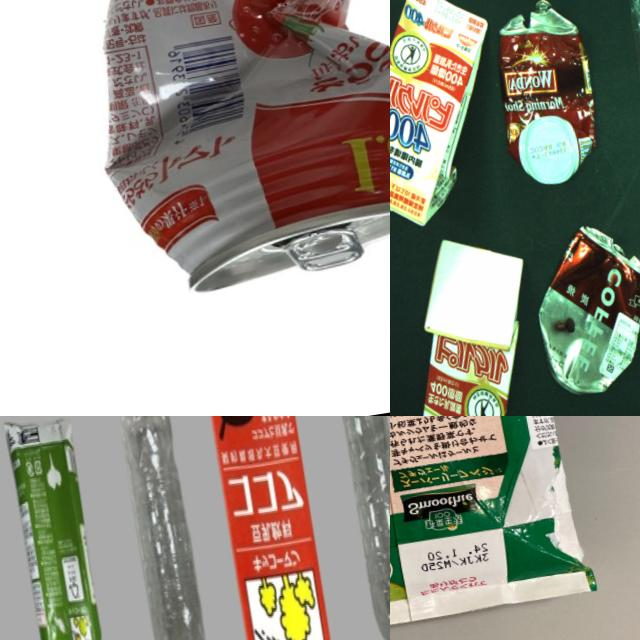Aluminium Foil: (390, 416, 585, 640), (190, 416, 352, 640), (390, 231, 554, 416), (390, 0, 515, 237), (0, 416, 116, 640)
Can: (65, 0, 390, 313), (483, 3, 606, 195), (526, 219, 640, 407)
Transparent Plastic Bottle: (111, 416, 228, 640), (324, 416, 390, 640)
